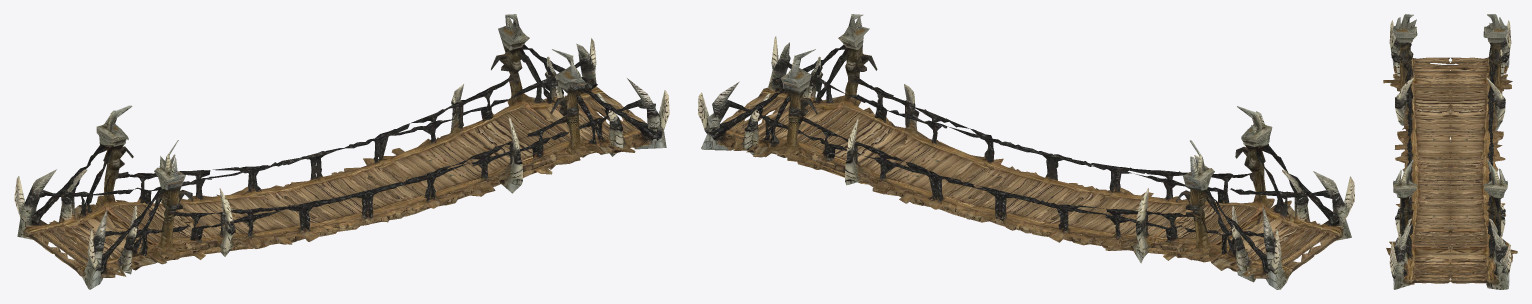
The model's file is bridge.glb.
3 views of the same model, side by side, from view 1: azimuth 30°, elevation 25°; view 2: azimuth 150°, elevation 25°; view 3: azimuth 270°, elevation 25° (orthographic). The views are drawn at different scales.
Visible parts, largest first — view 1: Mesh_0; view 2: Mesh_0; view 3: Mesh_0.
Part boxes in pixels (x1,y1,x2,y2): Mesh_0: [14, 14, 669, 289]; Mesh_0: [698, 14, 1354, 289]; Mesh_0: [1383, 14, 1517, 289].
Bounding box in the file's own units: 1.9 × 0.4077 × 0.4804.
Materials: 1 (1 with a texture image).
